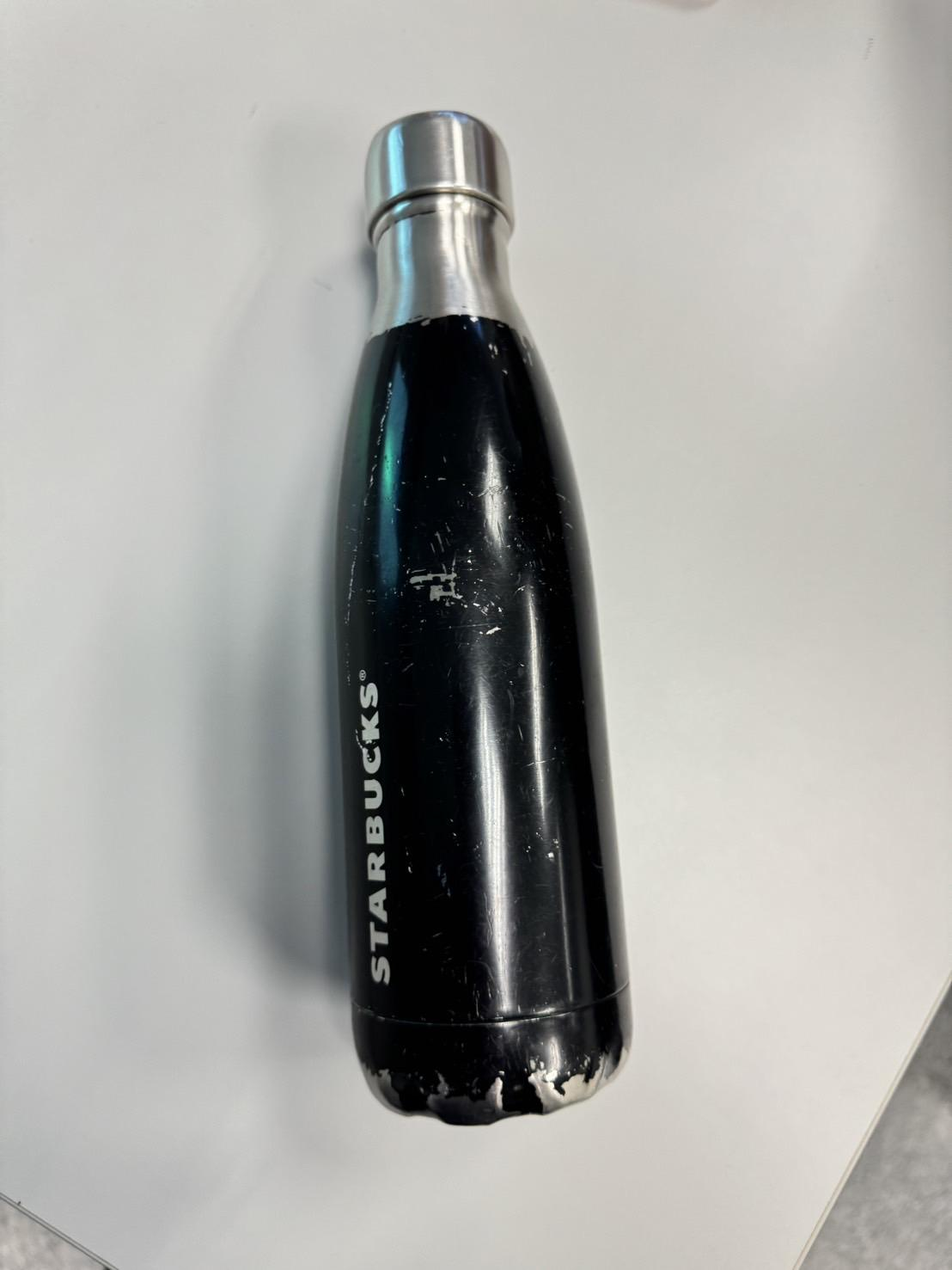Bottle: (336, 111, 630, 1125)
